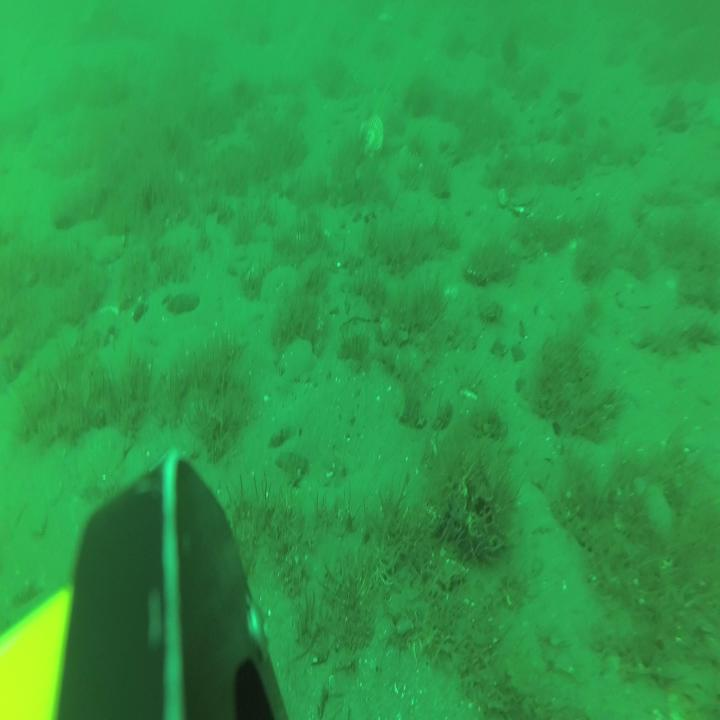scallop: (79, 426, 126, 481), (278, 341, 316, 379), (500, 182, 540, 216), (358, 117, 384, 160), (94, 236, 126, 264)
